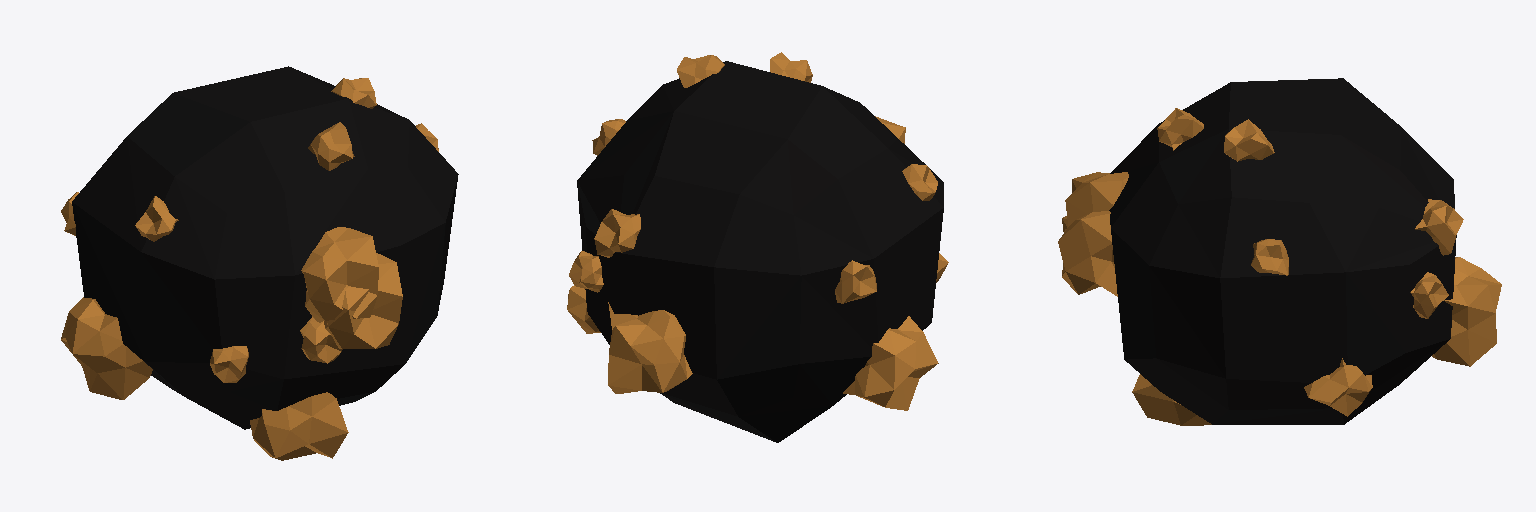
Rendered from Metal2.obj.
The picture shows the model from 3 angles: view 1: azimuth 30°, elevation 25°; view 2: azimuth 150°, elevation 25°; view 3: azimuth 270°, elevation 25°; orthographic projection.
Visible parts, largest first — view 1: Icosphere.006_Icosphere.008, Icosphere.003_Icosphere.005; view 2: Icosphere.006_Icosphere.008, Icosphere.003_Icosphere.005; view 3: Icosphere.006_Icosphere.008, Icosphere.003_Icosphere.005.
Part boxes in pixels (x1,y1,x2,y2): Icosphere.006_Icosphere.008: (72,66,458,429); Icosphere.003_Icosphere.005: (61,78,438,460); Icosphere.006_Icosphere.008: (577,61,943,442); Icosphere.003_Icosphere.005: (567,52,948,410); Icosphere.006_Icosphere.008: (1109,78,1456,424); Icosphere.003_Icosphere.005: (1058,108,1501,425).
Bounding box in the file's own units: 1.4 × 1.3 × 1.52.